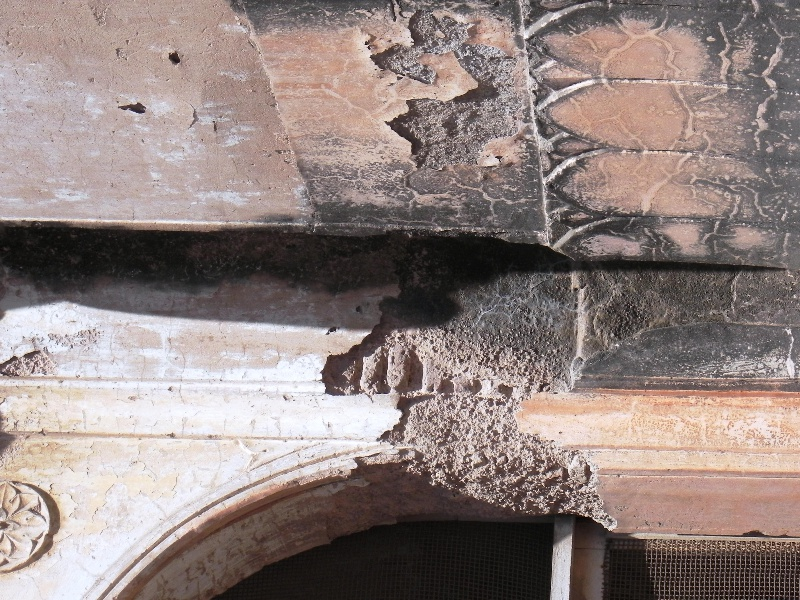Exposed Bricks: (321, 341, 508, 394)
Spalling: (349, 397, 625, 537), (356, 2, 536, 189)
